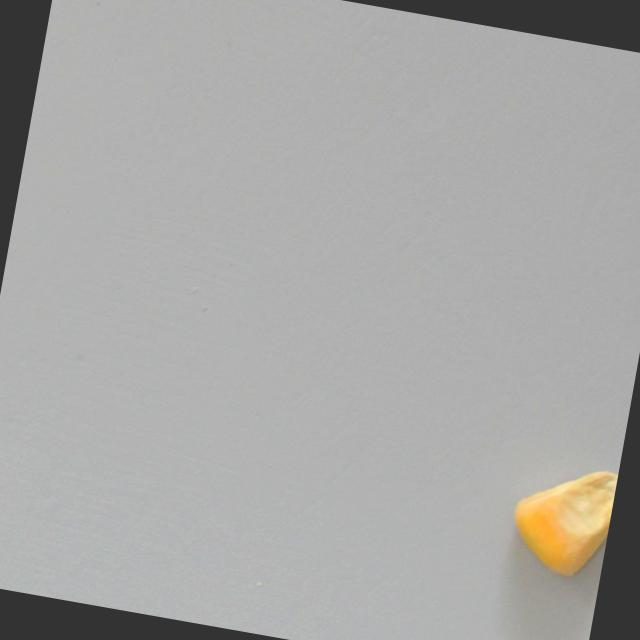entero: (500, 454, 618, 585)
